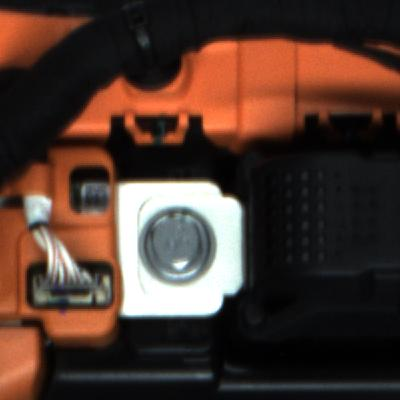nut_b: (132, 209, 221, 285)
